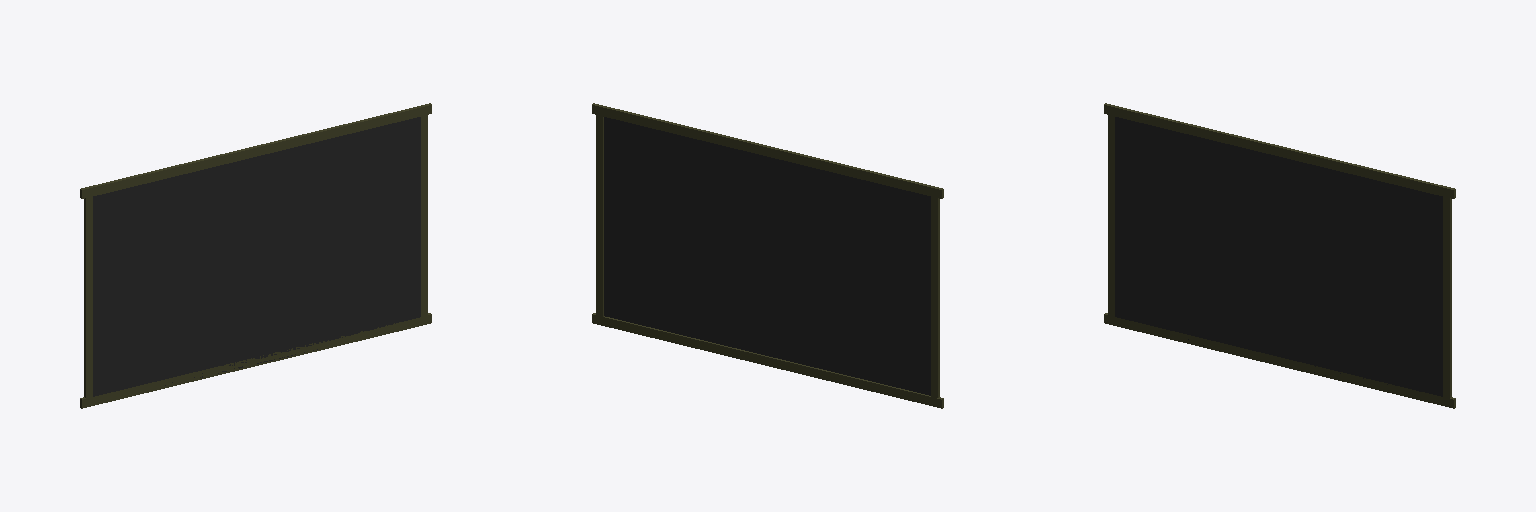
The model's file is Window.obj.
The picture shows the model from 3 angles: view 1: azimuth 30°, elevation 25°; view 2: azimuth 150°, elevation 25°; view 3: azimuth 330°, elevation 25°; orthographic projection.
Visible parts, largest first — view 1: Window, Top, Top.001, Left_Side, Right_Side; view 2: Window, Top, Top.001, Left_Side, Right_Side; view 3: Window, Top, Top.001, Right_Side, Left_Side.
Boxes of the visible parts, x1,y1,x2,y2 form: Window: [93, 117, 420, 396]; Top: [80, 103, 431, 198]; Top.001: [80, 313, 431, 408]; Left_Side: [84, 197, 92, 398]; Right_Side: [421, 115, 427, 316]; Window: [604, 117, 930, 395]; Top: [592, 103, 943, 198]; Top.001: [592, 313, 943, 408]; Left_Side: [931, 197, 939, 397]; Right_Side: [596, 115, 603, 316]; Window: [1115, 117, 1442, 396]; Top: [1104, 103, 1455, 198]; Top.001: [1104, 313, 1455, 408]; Right_Side: [1443, 197, 1451, 398]; Left_Side: [1108, 115, 1114, 316].
Bounding box in the file's own units: 102 × 60.47 × 1.05.